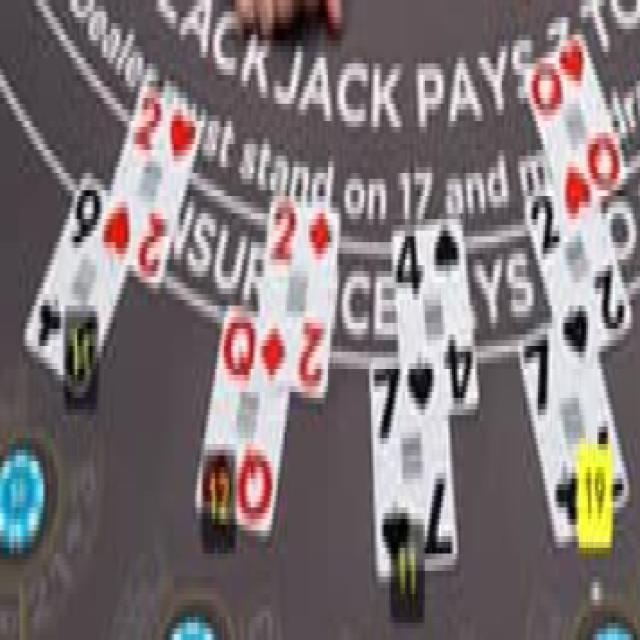Card-2: (101, 70, 203, 291), (525, 184, 633, 386), (257, 182, 341, 402)
Card-4: (392, 210, 480, 411)
Card-7: (517, 327, 631, 545), (370, 358, 459, 581)
Card-9: (23, 162, 127, 402)
Card-Q: (196, 296, 288, 539), (526, 22, 627, 238)
